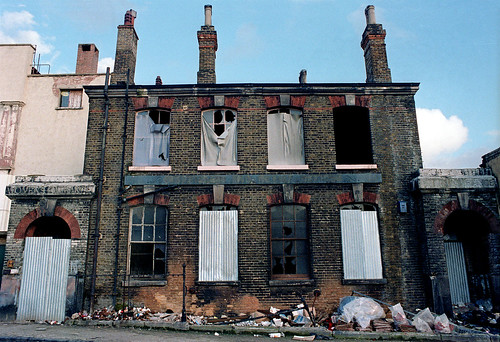building: (1, 68, 428, 332)
sky: (1, 1, 480, 84), (426, 1, 500, 162)
trash: (71, 285, 448, 335)
window: (329, 205, 393, 290), (267, 188, 319, 286), (197, 202, 245, 288), (124, 195, 167, 285), (195, 102, 247, 173), (326, 105, 382, 168), (127, 105, 176, 170), (263, 100, 308, 169)
